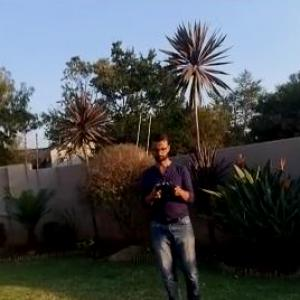follow: (142, 120, 214, 299)
